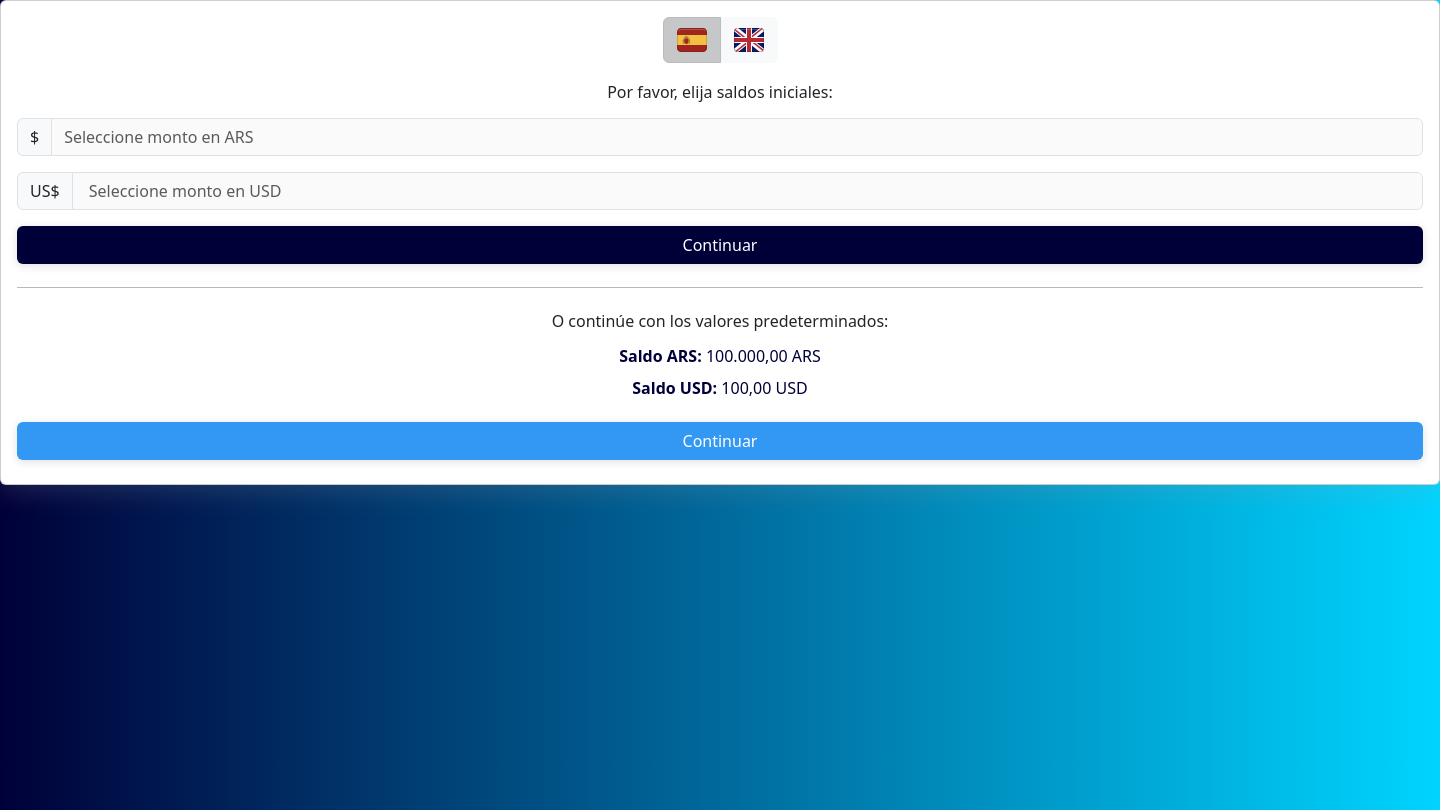
Scenario: ChooseAmounts Component › should show error message if ARS amount input is empty
Click the 1st button "Continuar": [720, 245] box [17, 226, 1423, 264]
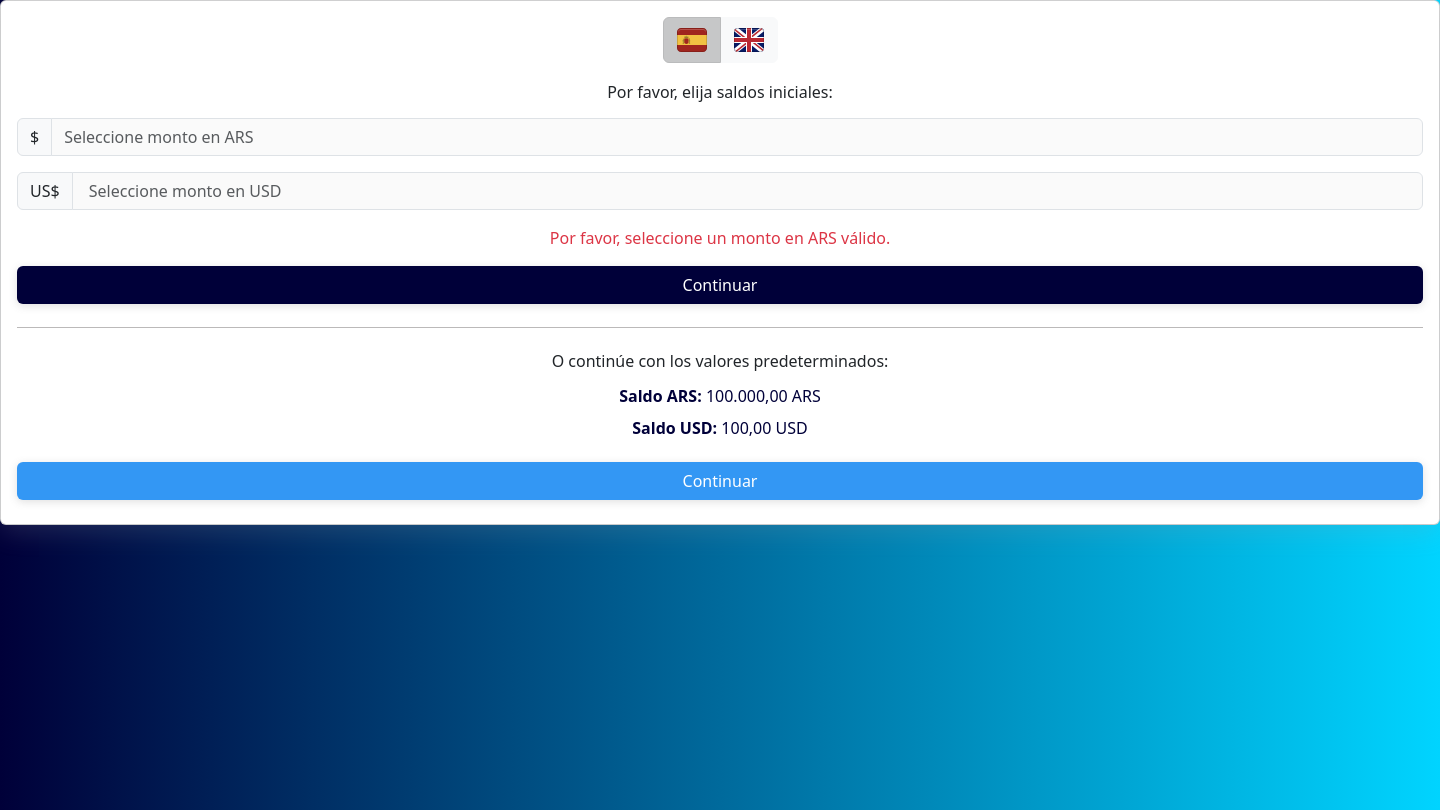
Expected: the text "Por favor, seleccione un monto en ARS válido." is shown, [550, 227, 890, 249]
